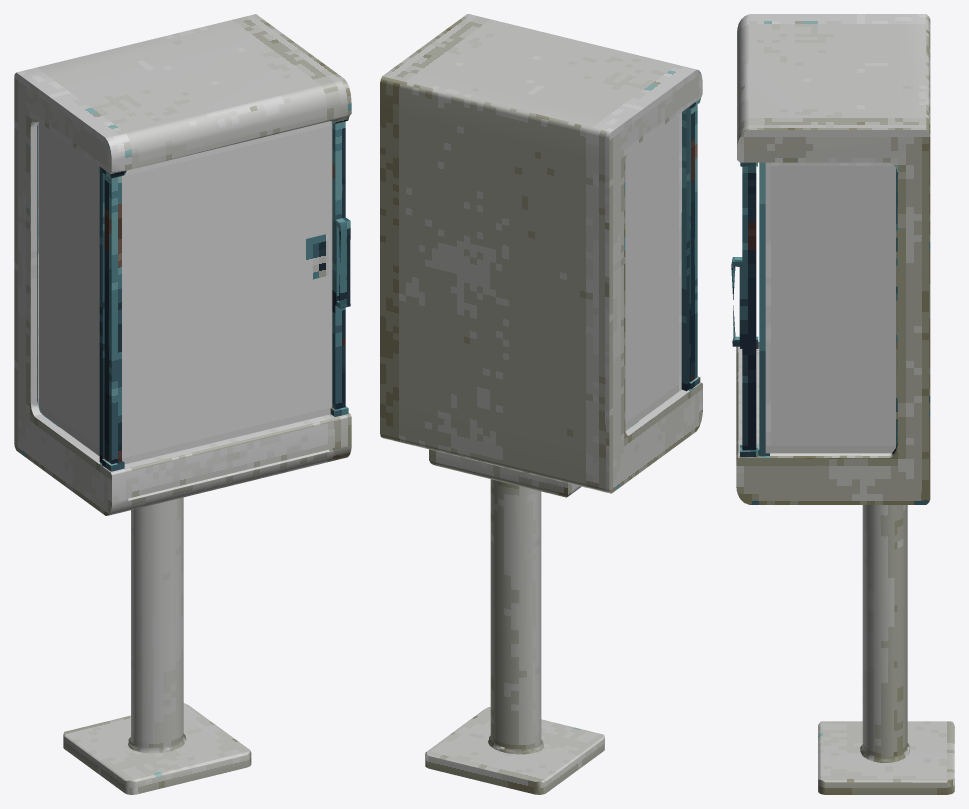
File: public_phone.glb
3 renders of one model, left to right at view 1: azimuth 30°, elevation 25°; view 2: azimuth 150°, elevation 25°; view 3: azimuth 270°, elevation 25°, orthographic. The views are drawn at different scales.
Visible parts, largest first — view 1: mesh; view 2: mesh; view 3: mesh.
Boxes of the visible parts, <box> form: mesh: <box>14,14,351,794</box>; mesh: <box>380,14,702,794</box>; mesh: <box>731,14,954,794</box>.
Bounding box in the file's own units: 0.1617 × 0.45 × 0.1317.
Materials: 1 (1 with a texture image).
